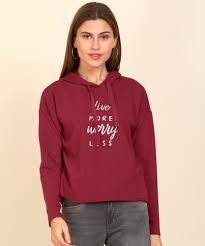Human: (37, 3, 172, 241)
